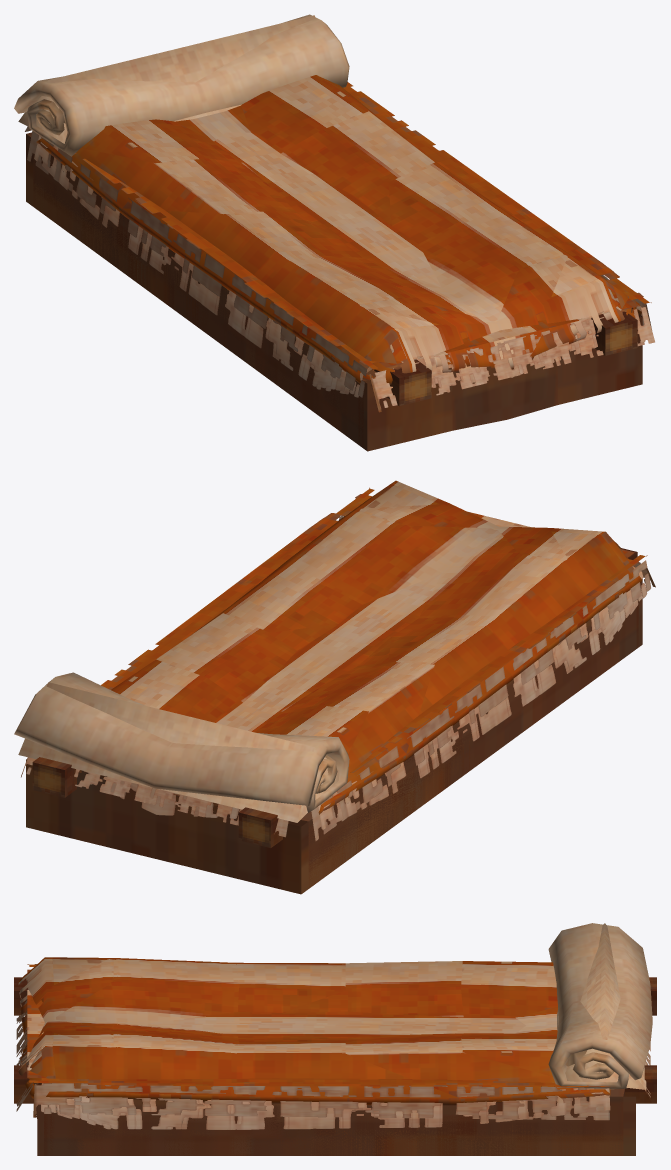
File: chBed.fbx
3 renders of one model, top to bottom at view 1: azimuth 30°, elevation 25°; view 2: azimuth 150°, elevation 25°; view 3: azimuth 270°, elevation 25°, orthographic. The views are drawn at different scales.
Parts seen in each view (by area): view 1: LODBED, YeenBed, YeenBed.003, YeenBed.002, YeenBed.001; view 2: YeenBed, LODBED, YeenBed.003, YeenBed.001, YeenBed.002; view 3: YeenBed, YeenBed.003, LODBED, YeenBed.001, YeenBed.002.
Boxes of the visible parts, x1,y1,x2,y2 form: LODBED: [18, 15, 654, 451]; YeenBed: [14, 14, 644, 448]; YeenBed.003: [34, 75, 636, 394]; YeenBed.002: [14, 20, 349, 156]; YeenBed.001: [33, 154, 633, 445]; YeenBed: [14, 480, 647, 887]; LODBED: [18, 487, 655, 894]; YeenBed.003: [111, 484, 642, 829]; YeenBed.001: [34, 554, 634, 888]; YeenBed.002: [56, 672, 349, 809]; YeenBed: [14, 923, 656, 1155]; YeenBed.003: [27, 957, 610, 1129]; LODBED: [16, 923, 652, 1155]; YeenBed.001: [19, 977, 656, 1155]; YeenBed.002: [548, 923, 640, 1088].
Bounding box in the file's own units: 2.93 × 1.37 × 0.5879.
